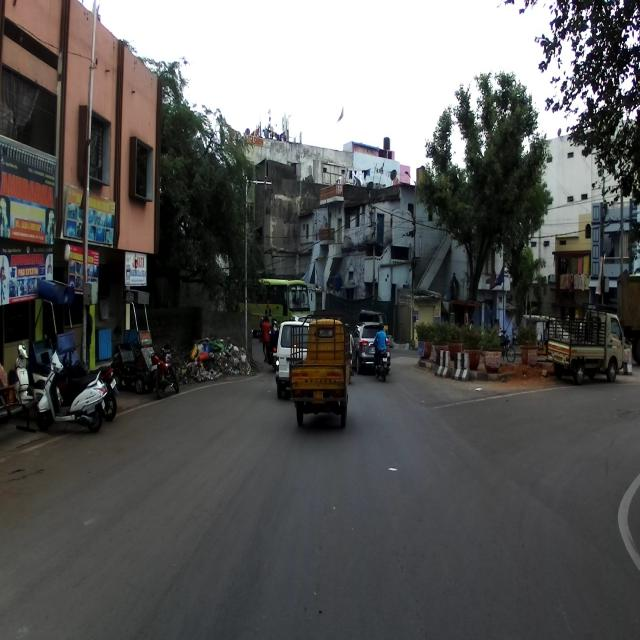autorickshaw: (288, 308, 351, 430)
motorcycle_Hero: (149, 333, 179, 399)
motorcycle_bajaj: (58, 340, 120, 422)
scooter: (34, 342, 109, 435), (12, 338, 62, 404)
truck: (546, 297, 626, 383)
